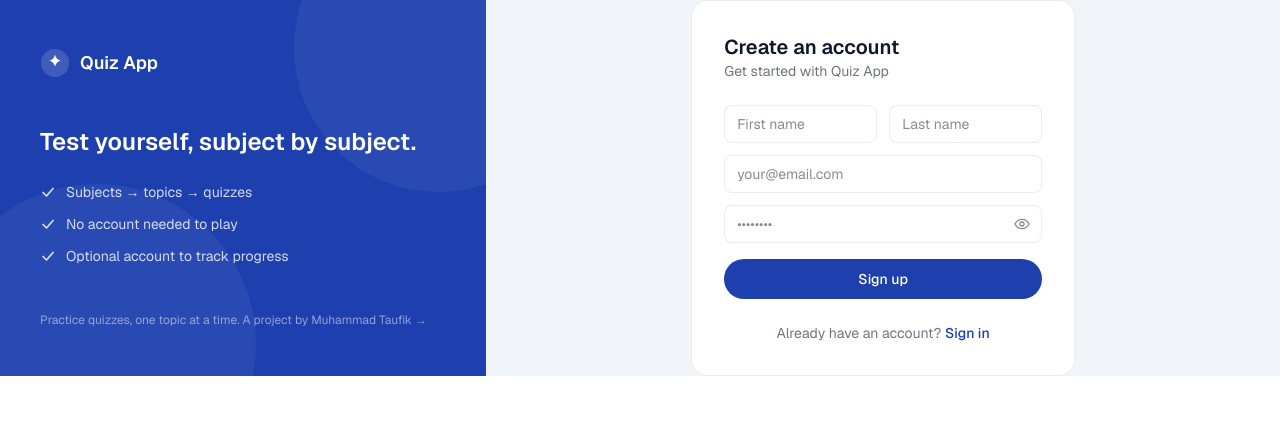
SignUp Form › displays an error message when signup fails
The image size is (1280, 425).
# Fill the form with valid data
Step 1. Type "John" into the field labelled "First name" → (801, 124), box [724, 105, 877, 143]
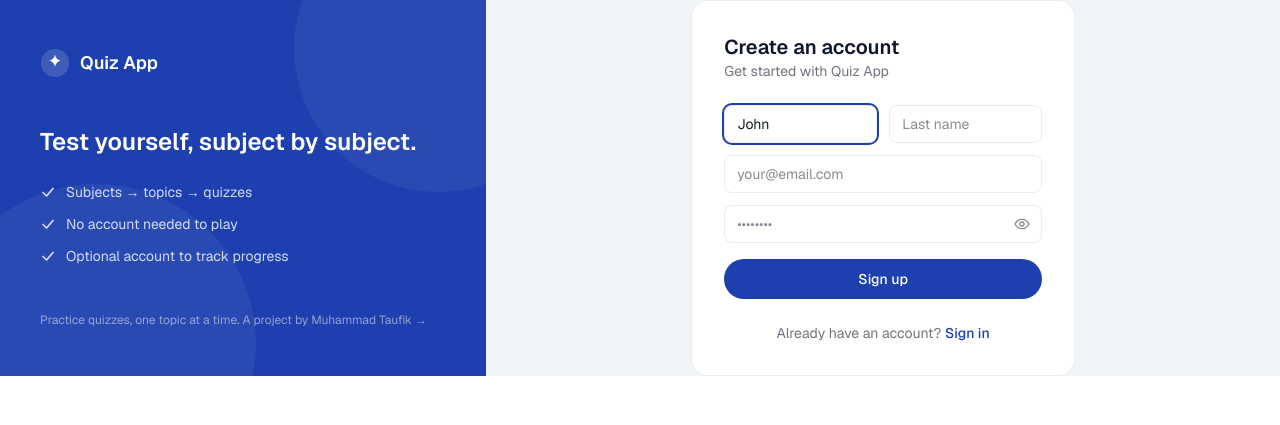
Step 2. Type "Doe" into the field labelled "Last name" → (966, 124), box [889, 105, 1042, 143]
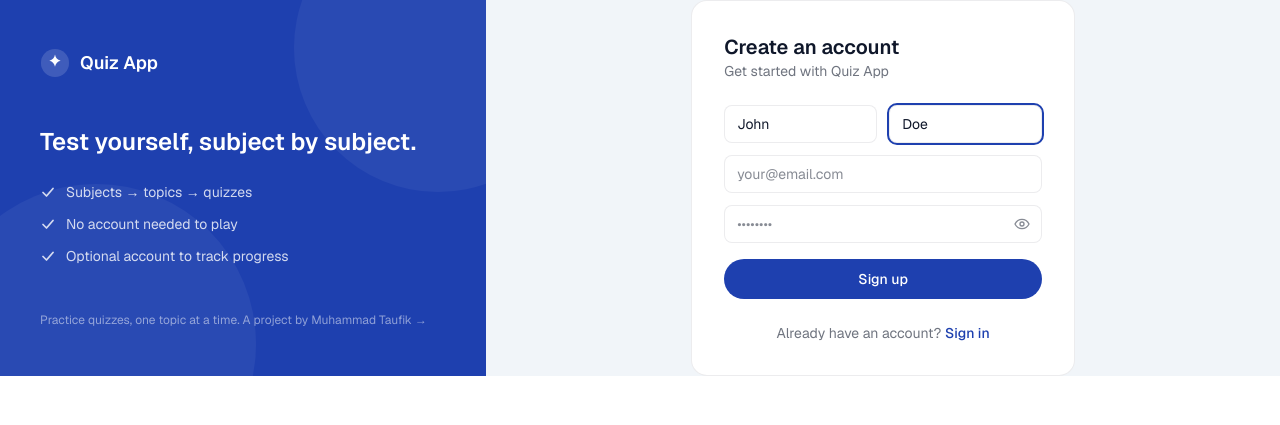
Step 3. Type "john.doe@example.com" into the field labelled "your@email.com" → (883, 174), box [724, 155, 1042, 193]
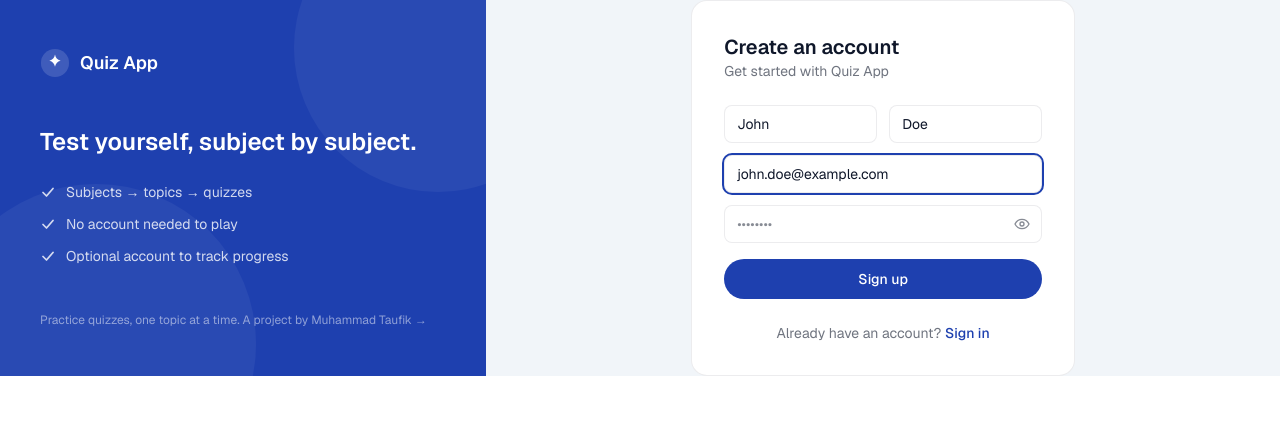
Step 4. Type "password123" into the password field named "Password" → (883, 224), box [724, 205, 1042, 243]
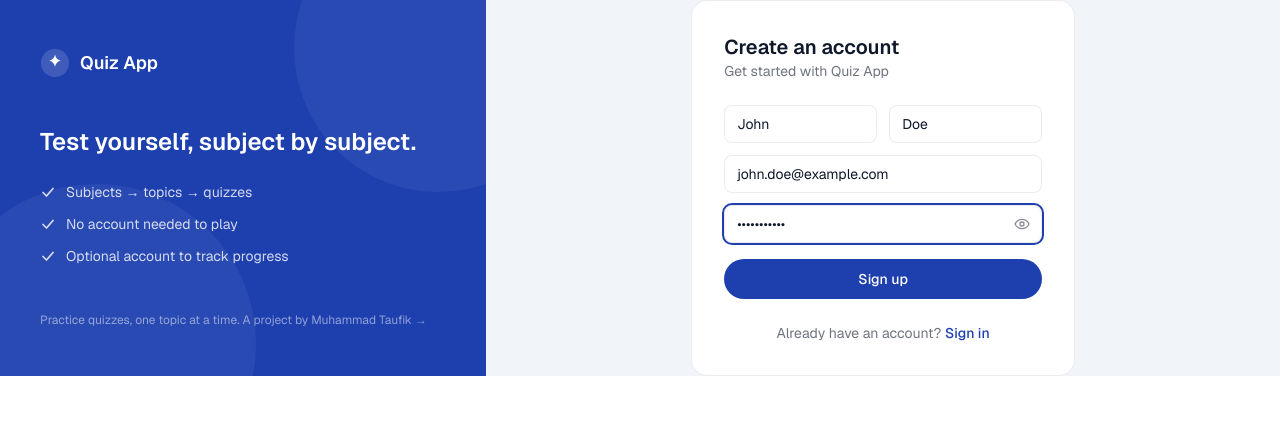
# Submit the form
Step 5. Click the button "Sign up" → (883, 279), box [724, 259, 1042, 299]
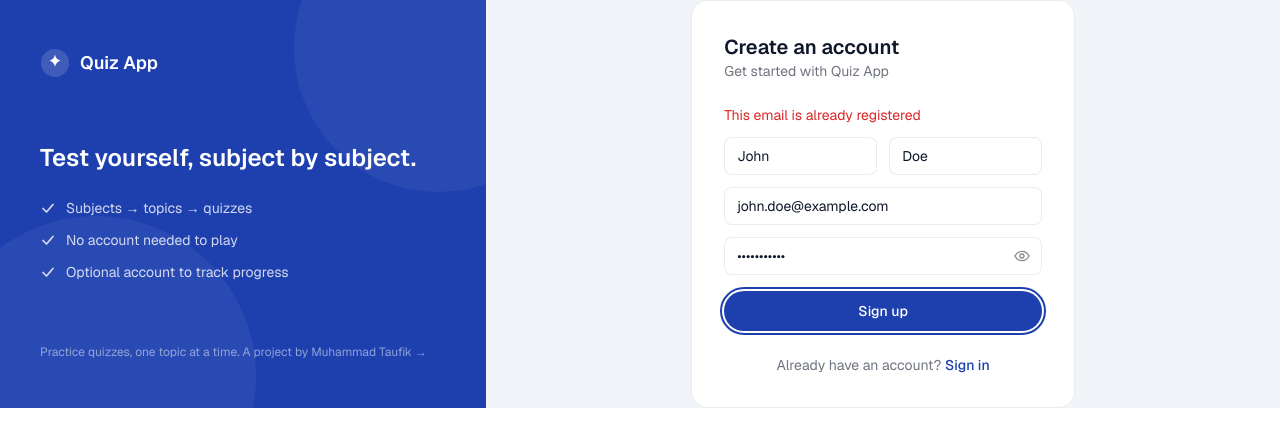
Expected: the text "This email is already registered" is shown, [724, 106, 921, 124]
